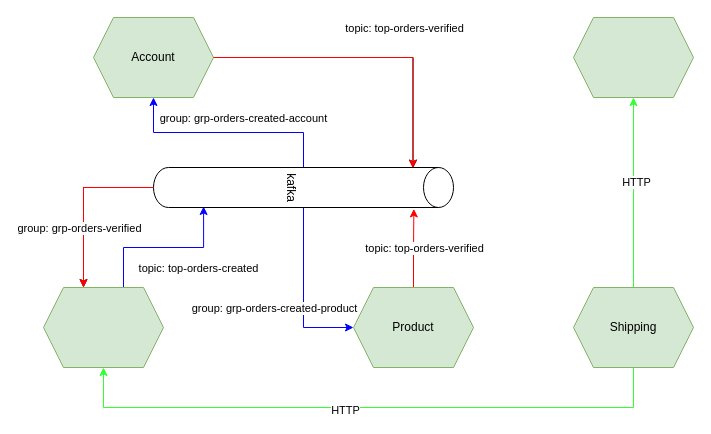
The diagram is 711 pixels wide and 434 high, and some of its shapes have lost their labels. The centre of each missing label's shape, as x and y in pixels:
"Customer" goes at (633,57).
"Order" goes at (103,327).
